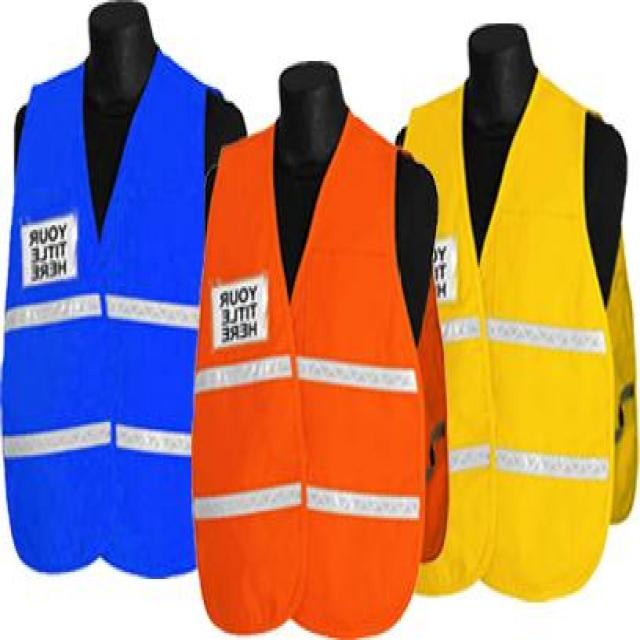Reflective-Jacket: (177, 93, 439, 638), (0, 28, 242, 586), (397, 63, 638, 607)
